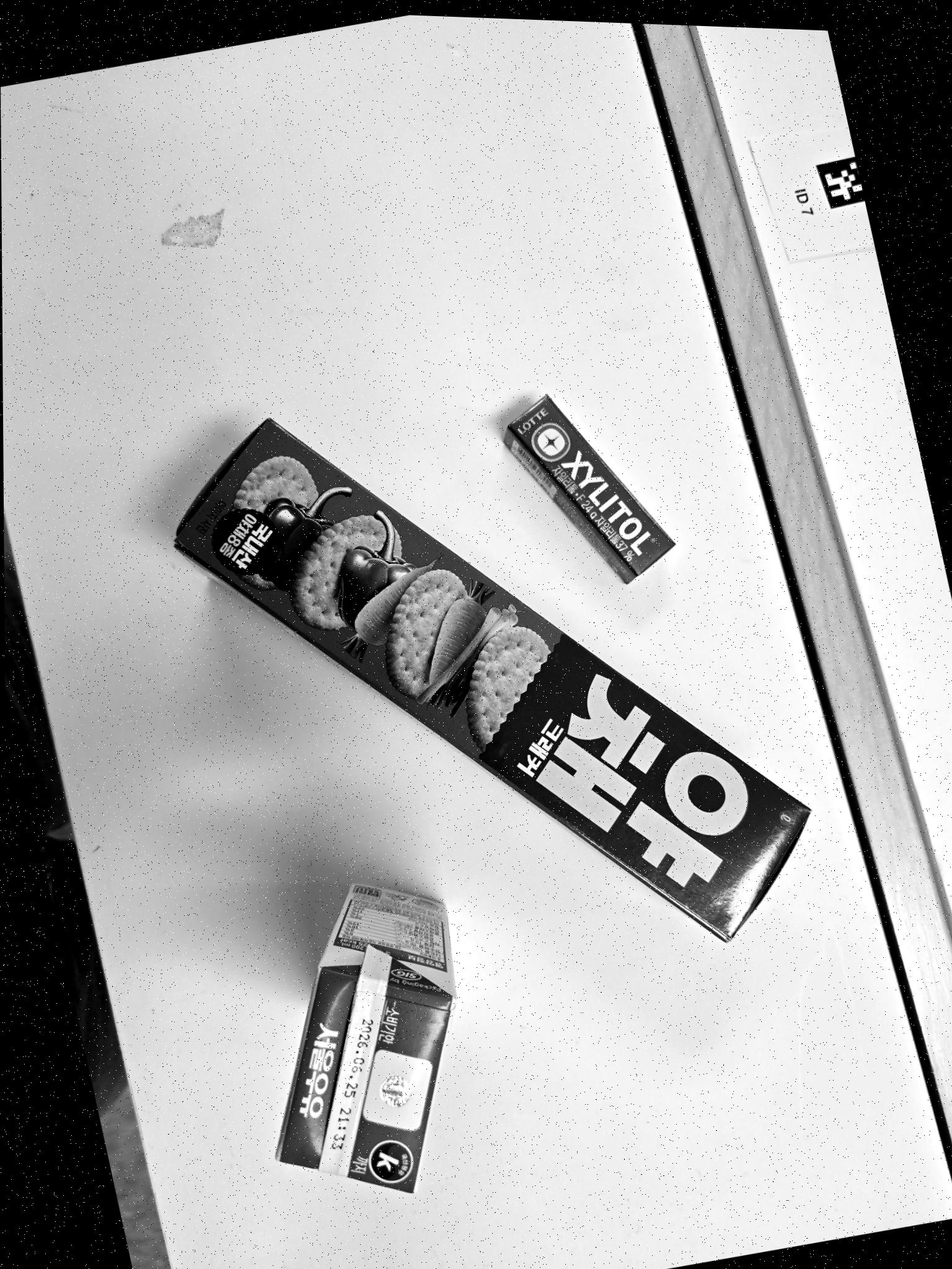cracker_vege: (176, 420, 810, 941)
gum_green: (505, 396, 674, 582)
milk_green: (277, 882, 454, 1193)
